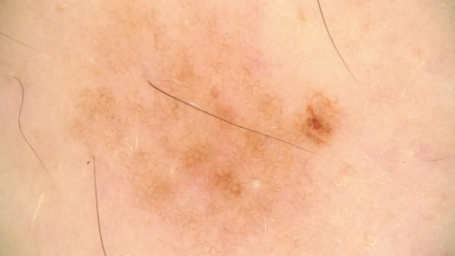nevus: (135, 60, 342, 220)
